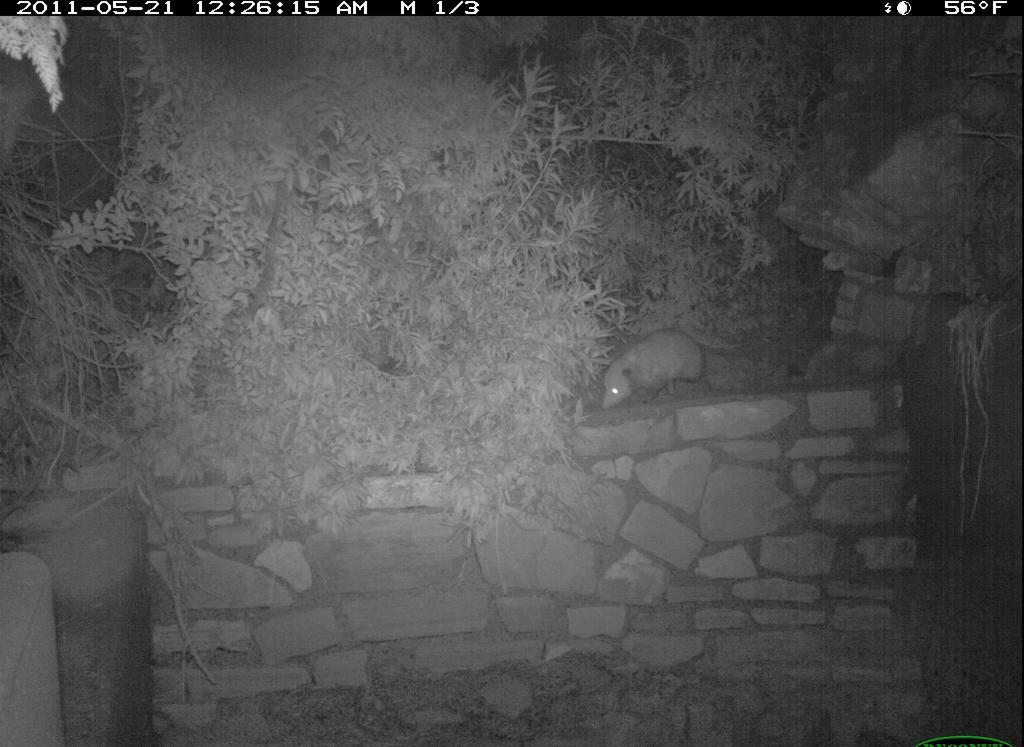opossum: (591, 322, 719, 418)
